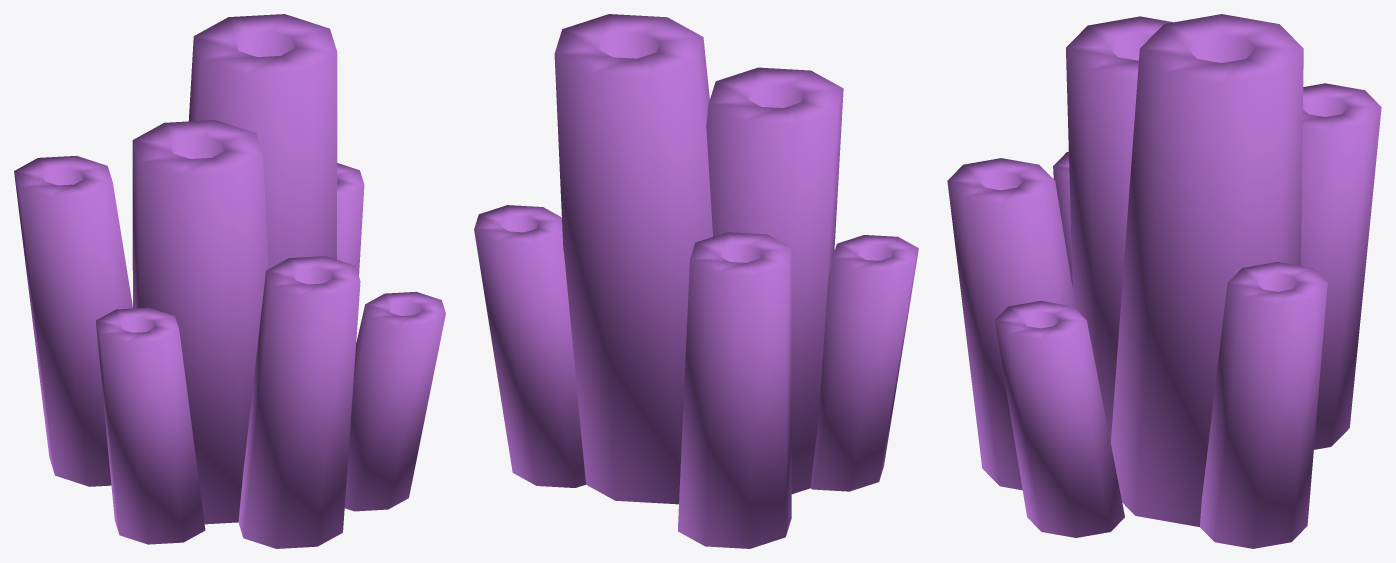
Rendered from Medium4.fbx.
The picture shows the model from 3 angles, left to right: view 1: azimuth 30°, elevation 25°; view 2: azimuth 150°, elevation 25°; view 3: azimuth 270°, elevation 25°; orthographic projection. The views are drawn at different scales.
Parts seen in each view (by area): view 1: Medium4; view 2: Medium4; view 3: Medium4.
Boxes of the visible parts, x1,y1,x2,y2 form: Medium4: (14, 14, 445, 548); Medium4: (474, 14, 918, 548); Medium4: (947, 14, 1381, 548).
Bounding box in the file's own units: 3.18 × 3.65 × 3.19.
